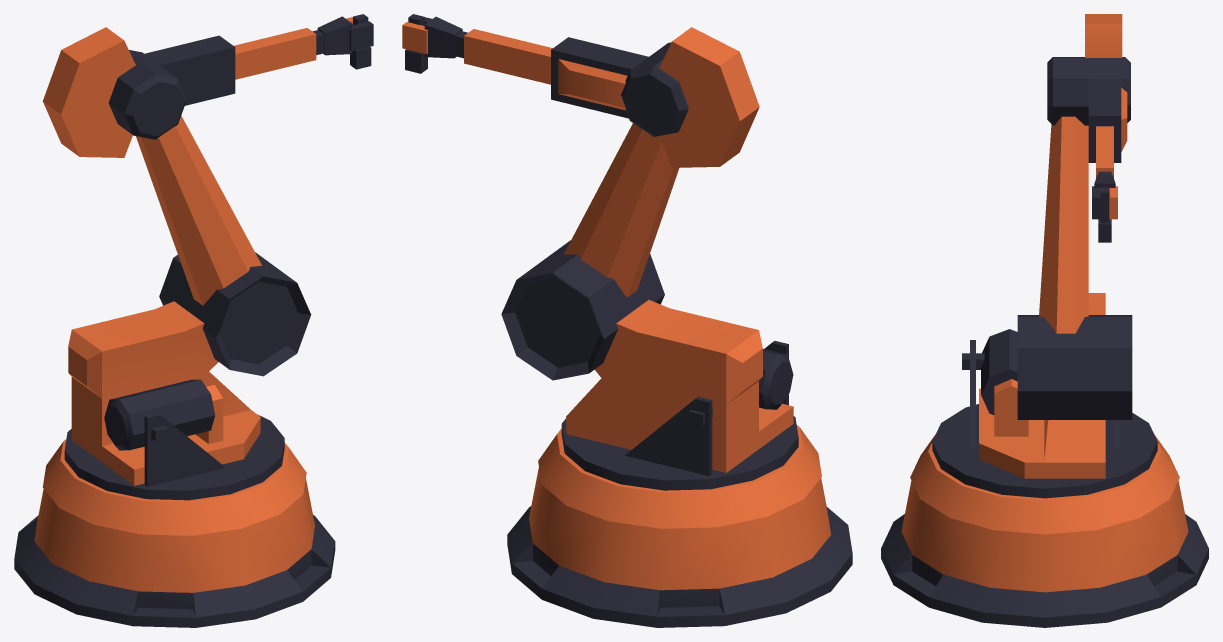
Rendered from robot.glb.
3 renders of one model, left to right at view 1: azimuth 30°, elevation 25°; view 2: azimuth 150°, elevation 25°; view 3: azimuth 270°, elevation 25°, orthographic. The views are drawn at different scales.
Visible parts, largest first — view 1: robot; view 2: robot; view 3: robot.
Boxes of the visible parts, x1,y1,x2,y2 form: robot: (14,14,373,627); robot: (402,14,852,627); robot: (881,14,1208,627).
Bounding box in the file's own units: 1.26 × 1.7 × 0.9722.
Materials: 1 (1 with a texture image).
